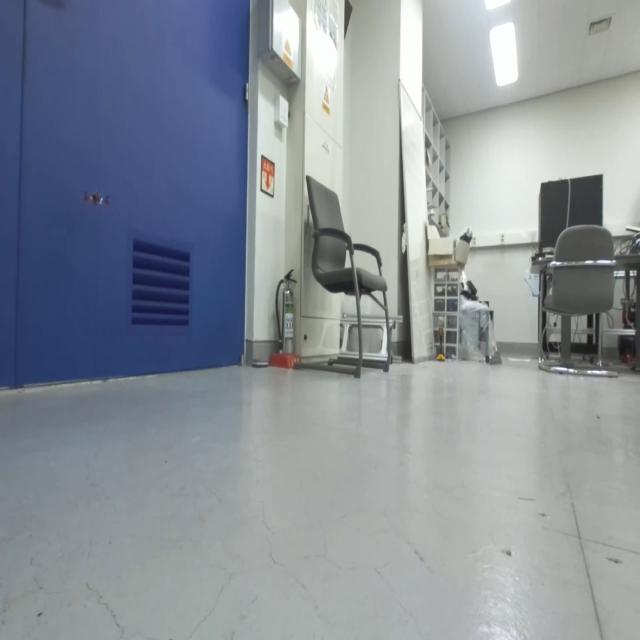crazyflie: (78, 180, 115, 218)
